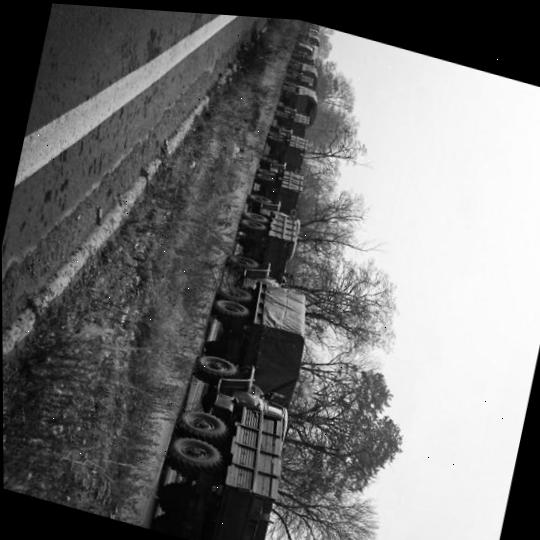truck: (141, 340, 316, 540), (194, 247, 316, 404), (225, 188, 315, 283), (242, 156, 308, 212), (249, 122, 313, 176), (268, 75, 326, 134)
